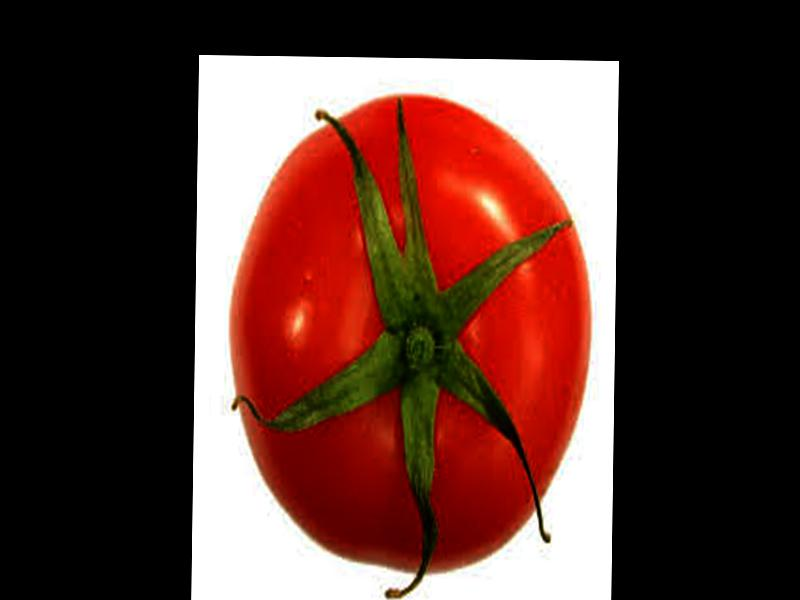Tomato: (228, 90, 593, 575)
